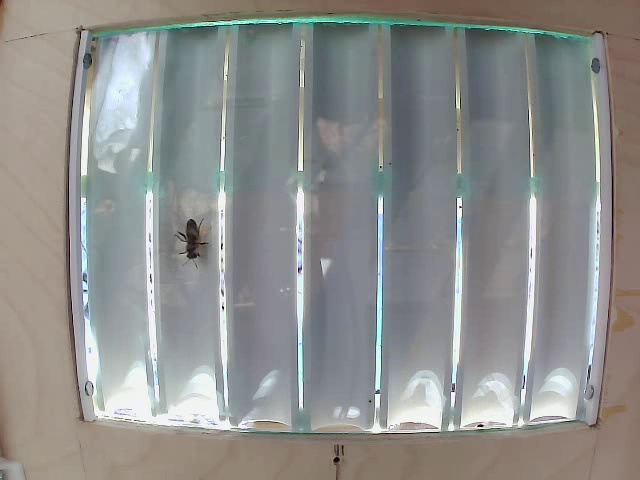bee: (169, 210, 207, 252)
